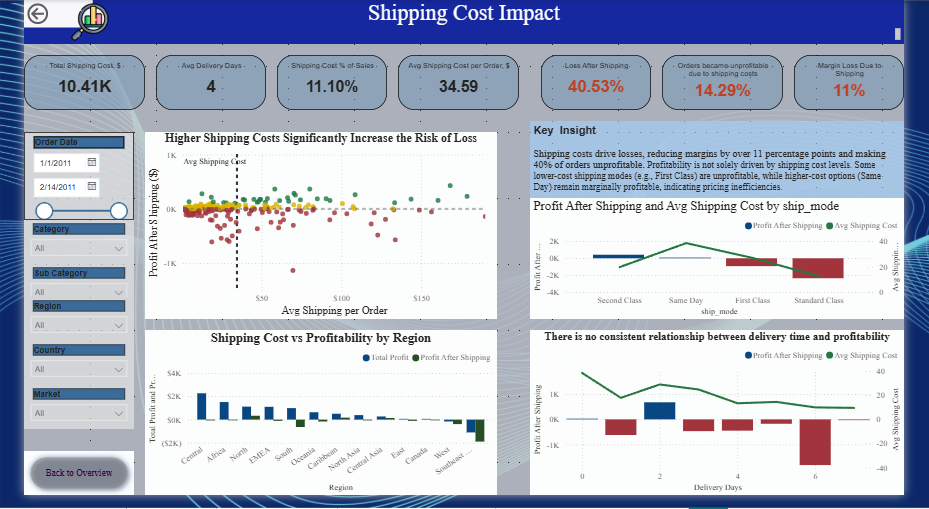

The page's visual inventory and layout, read from the dashboard file:
{"tool":"powerbi","page":{"name":"Shipping Cost Impact","canvas":[1280,720],"ordinal":2},"visuals":[{"type":"image","box":[0,0,171.5,105.7],"z":0},{"type":"textbox","title":"Shipping    Cost    Impact","box":[0,0,1280,64],"z":1000},{"type":"card","title":"Total Shipping Cost, $","fields":{"Values":["Sum(DATASET.shipping_cost)"]},"box":[0,80,176,80],"z":2000},{"type":"slicer","fields":{"Values":["DATASET.order_date"]},"box":[0,192,160,128],"z":3000},{"type":"slicer","fields":{"Values":["DATASET.country"]},"box":[0,496,160,64],"z":4000},{"type":"slicer","fields":{"Values":["DATASET.sub_category"]},"box":[0,384,160,48],"z":5000},{"type":"card","title":"Shipping Cost % of Sales","fields":{"Values":["DATASET.Shipping %"]},"box":[368,80,160,80],"z":6000},{"type":"actionButton","box":[0,0,100,40],"z":7000},{"type":"card","title":"Loss After Shipping ","fields":{"Values":["DATASET.Loss After Shipping %"]},"box":[752,80,160,80],"z":8000},{"type":"actionButton","box":[0,656,160,64],"z":9000},{"type":"card","title":"Avg Shipping Cost per Order, $","fields":{"Values":["DATASET.Avg Shipping per Order"]},"box":[544,80,176,80],"z":10000},{"type":"image","box":[0,0,192,64],"z":11000},{"type":"clusteredColumnChart","title":"Shipping Cost vs Profitability by Region","fields":{"Category":["DATASET.region"],"Y":["Sum(DATASET.profit)","DATASET.Profit After Shipping"]},"box":[176,480,512,240],"z":12000},{"type":"slicer","fields":{"Values":["DATASET.region"]},"box":[0,432,160,64],"z":13000},{"type":"slicer","fields":{"Values":["DATASET.category"]},"box":[0,320,160,64],"z":14000},{"type":"card","title":"Orders became unprofitable due to shipping costs","fields":{"Values":["DATASET.Orders Turned Unprofitable %"]},"box":[928,80,176,80],"z":15000},{"type":"card","title":"Margin Loss Due to Shipping","fields":{"Values":["DATASET.Margin Impact from Shipping"]},"box":[1120,80,160,80],"z":16000},{"type":"textbox","box":[736,176,544,112],"z":17000},{"type":"slicer","fields":{"Values":["DATASET.market"]},"box":[0,560,160,64],"z":18000},{"type":"scatterChart","title":"Higher Shipping Costs Significantly Increase the Risk of Loss","fields":{"Y":["DATASET.Profit After Shipping"],"Category":["DATASET.order_id"],"X":["DATASET.Avg Shipping per Order"]},"box":[176,192,512,272],"z":19000},{"type":"lineClusteredColumnComboChart","title":"There is no consistent relationship between delivery time and profitability","fields":{"Category":["DATASET.delivery_days"],"Y":["DATASET.Profit After Shipping"],"Y2":["DATASET.Avg Shipping Cost"]},"box":[736,480,544,240],"z":20000},{"type":"card","title":"Avg Delivery Days","fields":{"Values":["Avg(DATASET.delivery_days)"]},"box":[192,80,160,80],"z":21000},{"type":"lineStackedColumnComboChart","fields":{"Category":["DATASET.ship_mode"],"Y":["DATASET.Profit After Shipping"],"Y2":["DATASET.Avg Shipping Cost"]},"box":[736,288,544,176],"z":22000}]}

Visuals, with their boxes in screenshot pixels (x1, y1, x2, y2), scaled from the page's 1280x720 canvas onto the 929x509 screenshot:
image: [left=0, top=0, right=124, bottom=75]
"Shipping    Cost    Impact" textbox: [left=0, top=0, right=928, bottom=45]
"Total Shipping Cost, $" card: [left=0, top=57, right=128, bottom=113]
slicer - DATASET.order_date: [left=0, top=136, right=116, bottom=226]
slicer - DATASET.country: [left=0, top=351, right=116, bottom=396]
slicer - DATASET.sub_category: [left=0, top=271, right=116, bottom=305]
"Shipping Cost % of Sales" card: [left=267, top=57, right=383, bottom=113]
actionButton: [left=0, top=0, right=73, bottom=28]
"Loss After Shipping " card: [left=546, top=57, right=662, bottom=113]
actionButton: [left=0, top=464, right=116, bottom=508]
"Avg Shipping Cost per Order, $" card: [left=395, top=57, right=523, bottom=113]
image: [left=0, top=0, right=139, bottom=45]
"Shipping Cost vs Profitability by Region" clusteredColumnChart: [left=128, top=339, right=499, bottom=508]
slicer - DATASET.region: [left=0, top=305, right=116, bottom=351]
slicer - DATASET.category: [left=0, top=226, right=116, bottom=271]
"Orders became unprofitable due to shipping costs" card: [left=674, top=57, right=801, bottom=113]
"Margin Loss Due to Shipping" card: [left=813, top=57, right=928, bottom=113]
textbox: [left=534, top=124, right=928, bottom=204]
slicer - DATASET.market: [left=0, top=396, right=116, bottom=441]
"Higher Shipping Costs Significantly Increase the Risk of Loss" scatterChart: [left=128, top=136, right=499, bottom=328]
"There is no consistent relationship between delivery time and profitability" lineClusteredColumnComboChart: [left=534, top=339, right=928, bottom=508]
"Avg Delivery Days" card: [left=139, top=57, right=255, bottom=113]
lineStackedColumnComboChart - DATASET.ship_mode x DATASET.Profit After Shipping: [left=534, top=204, right=928, bottom=328]
